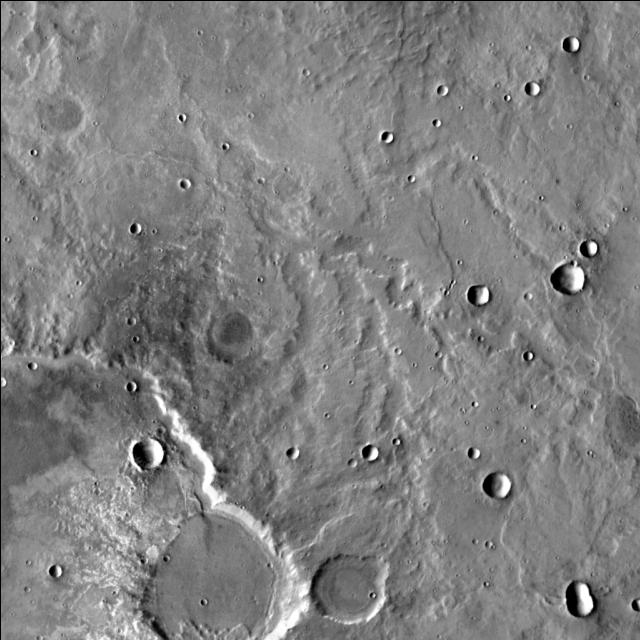crater: (0, 343, 251, 640), (142, 506, 308, 640), (318, 554, 392, 626), (212, 310, 266, 363), (44, 92, 94, 140), (558, 264, 590, 296), (139, 439, 171, 469), (365, 556, 396, 586), (489, 472, 517, 499), (574, 593, 600, 619), (572, 584, 596, 606), (474, 286, 496, 306), (367, 444, 385, 462), (586, 240, 604, 258), (272, 5, 290, 22), (570, 36, 586, 52), (530, 82, 546, 96), (55, 566, 67, 578), (292, 448, 304, 460), (388, 132, 400, 143), (474, 450, 486, 460), (2, 378, 13, 388), (443, 86, 454, 96), (136, 224, 146, 234), (132, 382, 142, 392), (188, 180, 198, 190), (530, 352, 540, 362), (134, 316, 144, 324), (530, 292, 539, 300), (35, 362, 44, 370), (440, 120, 448, 128), (302, 61, 310, 69), (399, 438, 407, 446), (356, 459, 364, 467), (184, 114, 192, 122), (491, 542, 498, 550), (406, 168, 414, 175), (569, 252, 576, 260), (394, 340, 401, 348), (157, 420, 164, 428), (221, 136, 228, 143), (434, 344, 441, 351), (30, 143, 38, 149), (470, 394, 478, 400), (200, 592, 207, 598), (258, 171, 264, 177), (504, 88, 510, 94), (163, 549, 169, 555)
